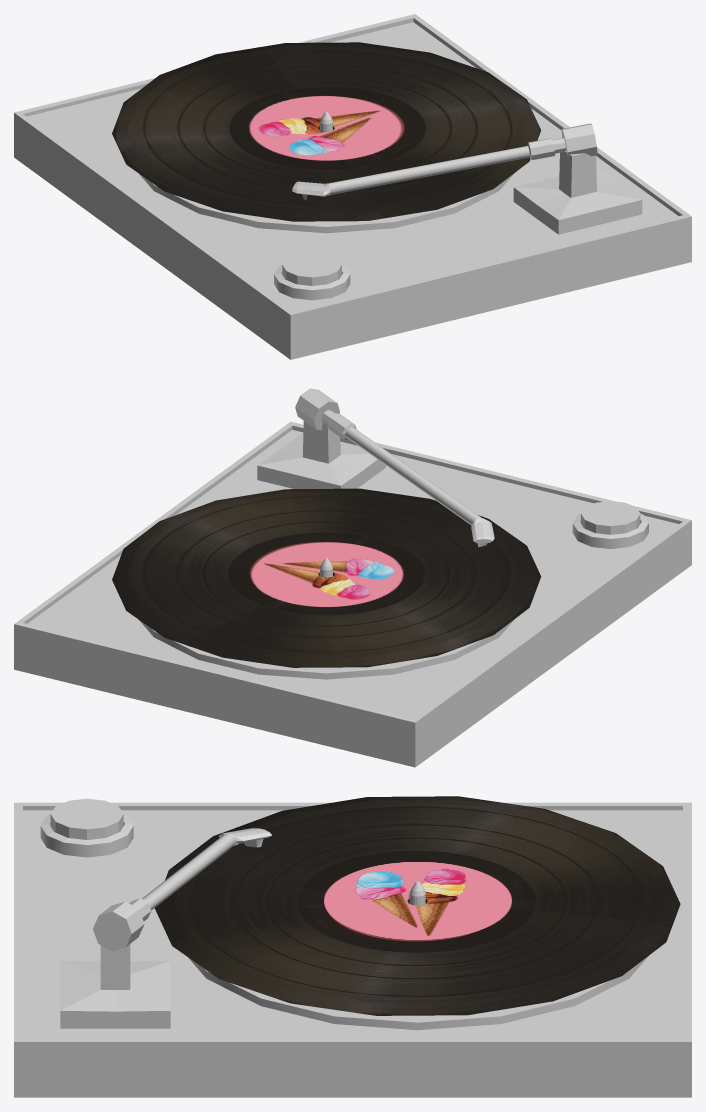
File: VinylwithIcecream.FBX
The picture shows the model from 3 angles, top to bottom: view 1: azimuth 30°, elevation 25°; view 2: azimuth 150°, elevation 25°; view 3: azimuth 270°, elevation 25°; orthographic projection. The views are drawn at different scales.
Visible parts, largest first — view 1: Box001, Cylinder007, Cylinder002, Object001, Cylinder001, Object002, Cylinder003; view 2: Box001, Cylinder007, Cylinder002, Object001, Cylinder001, Object002, Cylinder003; view 3: Box001, Cylinder007, Cylinder002, Cylinder001, Object001, Object002, Cylinder003.
Part boxes in pixels (bbox=[...]): Box001: bbox=[14, 14, 691, 359]; Cylinder007: bbox=[112, 42, 541, 221]; Cylinder002: bbox=[513, 150, 642, 234]; Object001: bbox=[292, 123, 597, 200]; Cylinder001: bbox=[139, 111, 514, 233]; Object002: bbox=[282, 252, 341, 285]; Cylinder003: bbox=[274, 265, 350, 300]; Box001: bbox=[14, 421, 691, 767]; Cylinder007: bbox=[112, 488, 541, 667]; Cylinder002: bbox=[257, 420, 385, 488]; Object001: bbox=[295, 388, 494, 547]; Cylinder001: bbox=[138, 558, 514, 679]; Object002: bbox=[581, 501, 640, 534]; Cylinder003: bbox=[572, 513, 648, 548]; Box001: bbox=[14, 802, 691, 1097]; Cylinder007: bbox=[154, 796, 680, 1015]; Cylinder002: bbox=[60, 944, 170, 1028]; Cylinder001: bbox=[188, 881, 648, 1030]; Object001: bbox=[93, 828, 271, 951]; Object002: bbox=[50, 798, 123, 839]; Cylinder003: bbox=[40, 814, 133, 857].
Bounding box in the file's own units: 29.57 × 8.64 × 35.31.
1 material, 1 textured.
